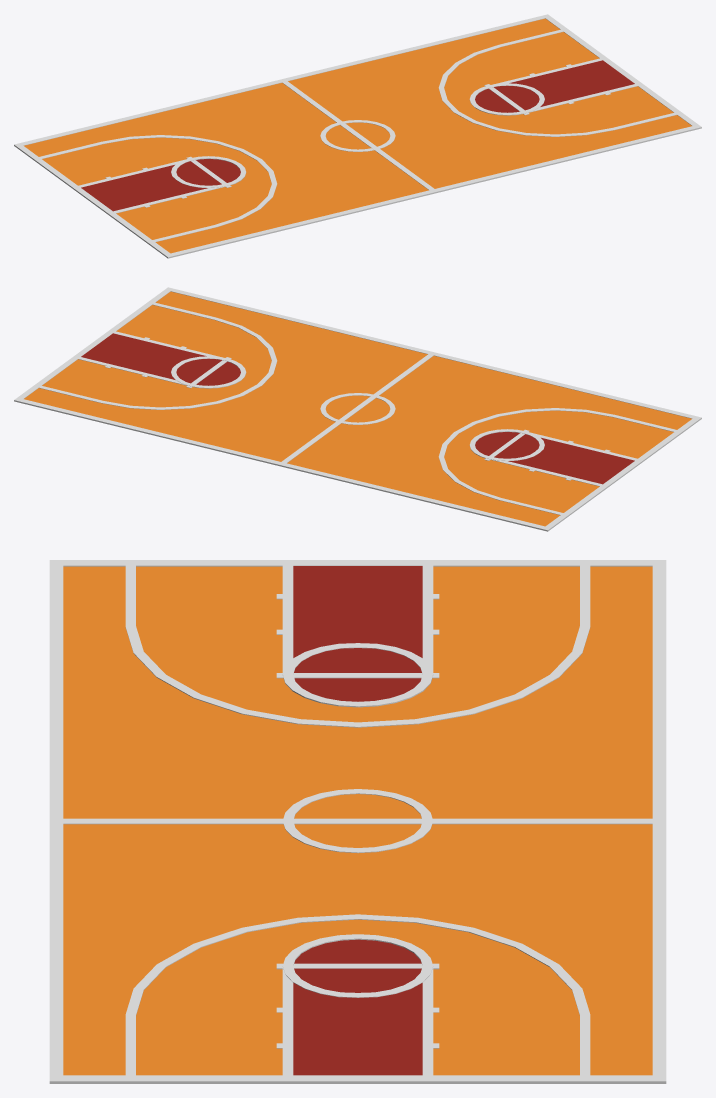
Rendered from Basketball_Court_2.fbx.
3 views of the same model, one above another, from view 1: azimuth 30°, elevation 25°; view 2: azimuth 150°, elevation 25°; view 3: azimuth 270°, elevation 25° (orthographic). The views are drawn at different scales.
Visible parts, largest first — view 1: Basketball_Court_2; view 2: Basketball_Court_2; view 3: Basketball_Court_2.
Boxes of the visible parts, bbox=[...] form: Basketball_Court_2: bbox=[14, 14, 701, 258]; Basketball_Court_2: bbox=[14, 287, 701, 531]; Basketball_Court_2: bbox=[49, 560, 666, 1083].
Size of the model in its own units: 1600 by 4.45 by 800.
